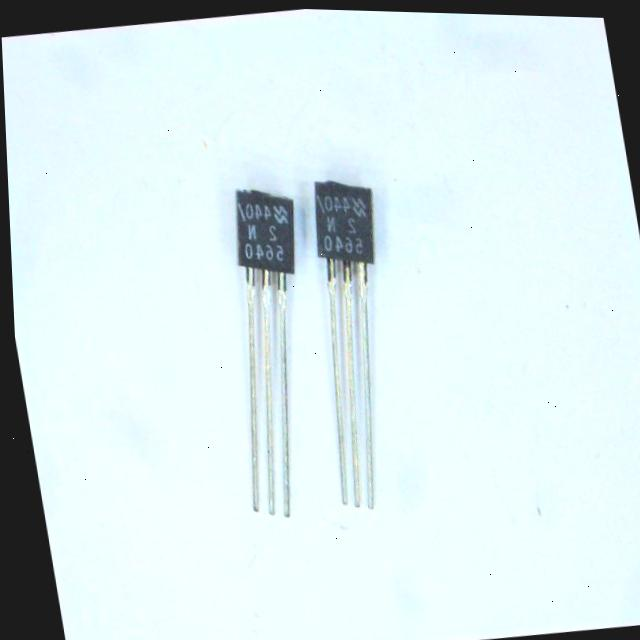Transistor: (302, 159, 380, 516), (226, 175, 299, 529)
